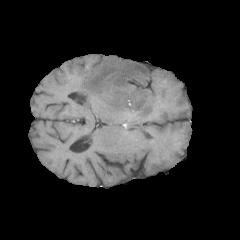glioma: (52, 59, 172, 117)
